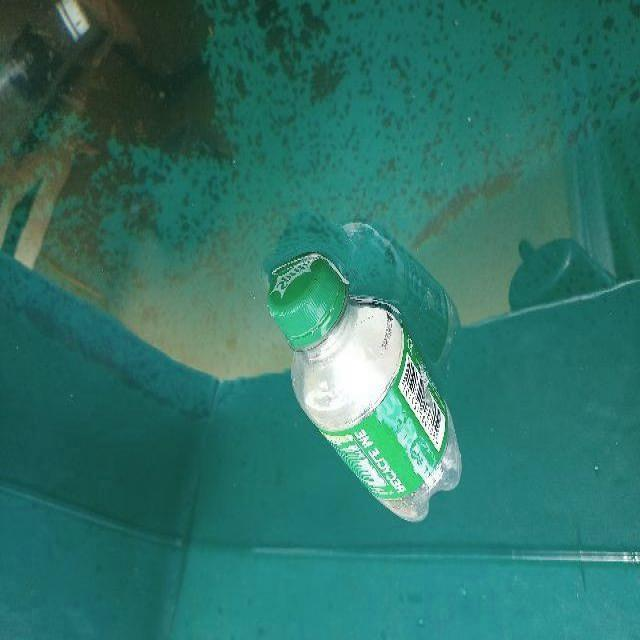Plastic: (264, 254, 464, 523)
